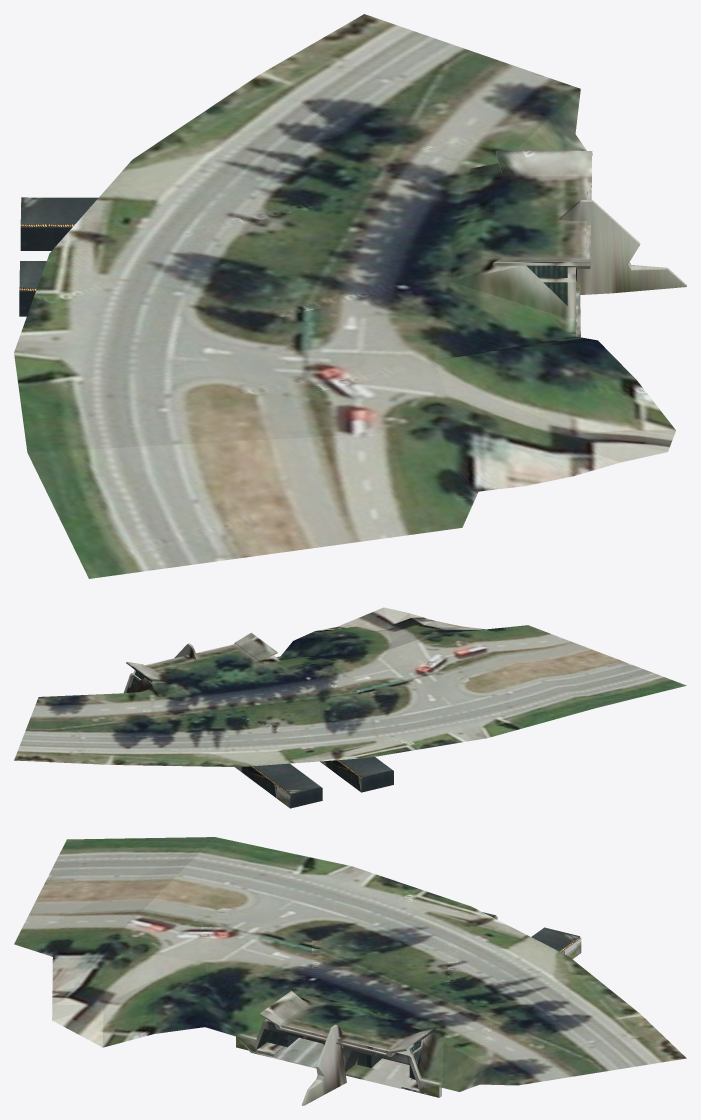
Rendered from tunnel2.obj.
3 views of the same model, one above another, from view 1: azimuth 30°, elevation 25°; view 2: azimuth 150°, elevation 25°; view 3: azimuth 270°, elevation 25° (orthographic). The views are drawn at different scales.
Parts seen in each view (by area): view 1: Mesh1 Model; view 2: Mesh1 Model; view 3: Mesh1 Model.
Part boxes in pixels (<box>): Mesh1 Model: <box>14,14,686,578</box>; Mesh1 Model: <box>14,607,686,808</box>; Mesh1 Model: <box>14,837,686,1105</box>.
Size of the model in its own units: 117 by 11.6 by 126.
4 materials, 3 textured.
